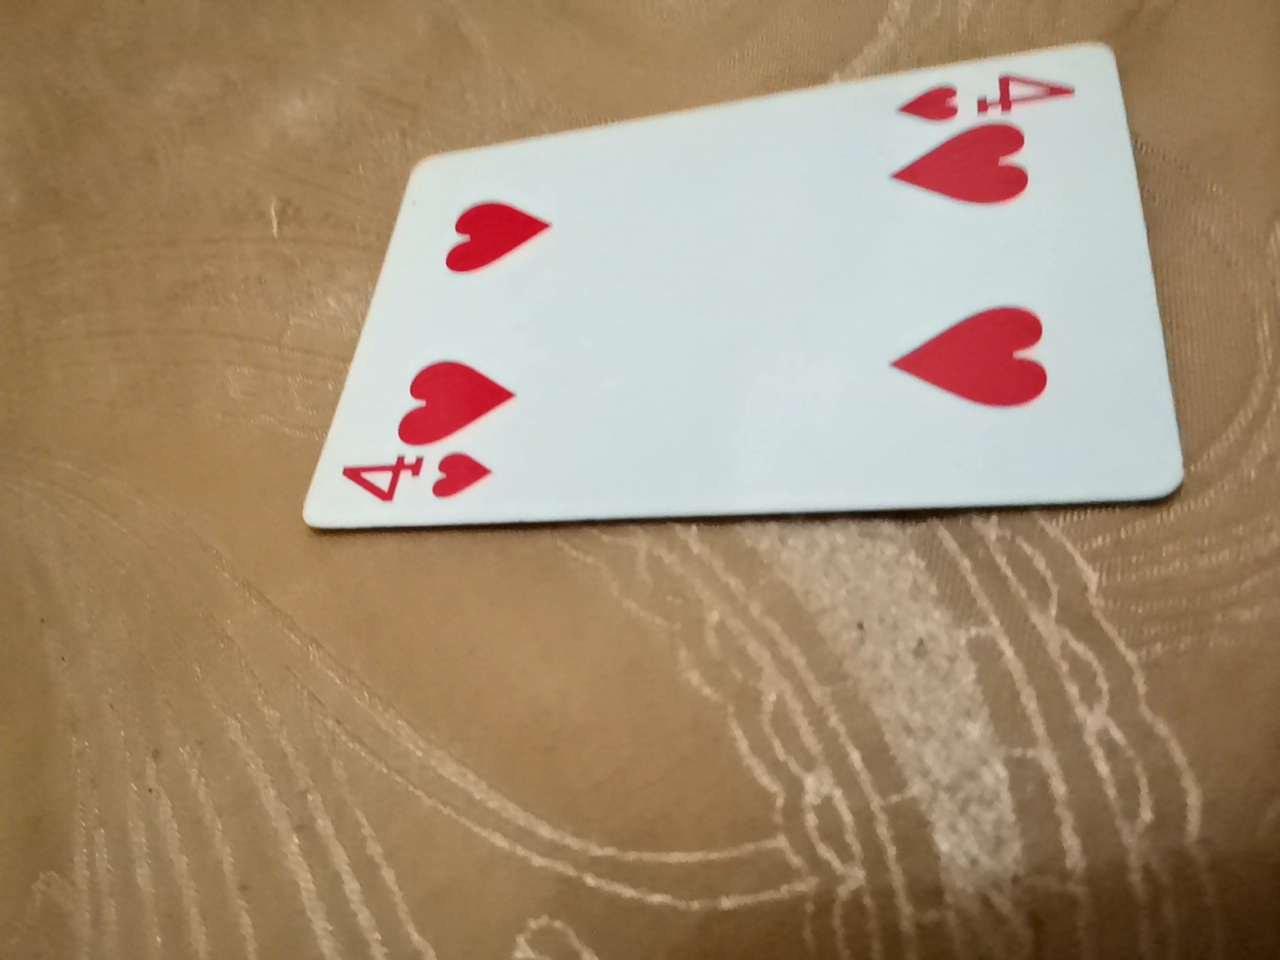hx 4: (315, 94, 1164, 584)
